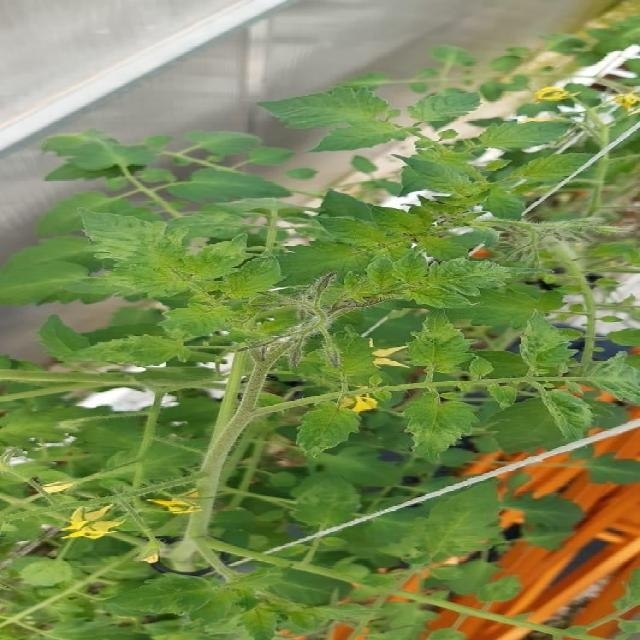T_L_R: (84, 211, 185, 267), (410, 311, 475, 382), (429, 260, 513, 297), (407, 285, 469, 309)
T_S_R: (204, 361, 273, 487)
